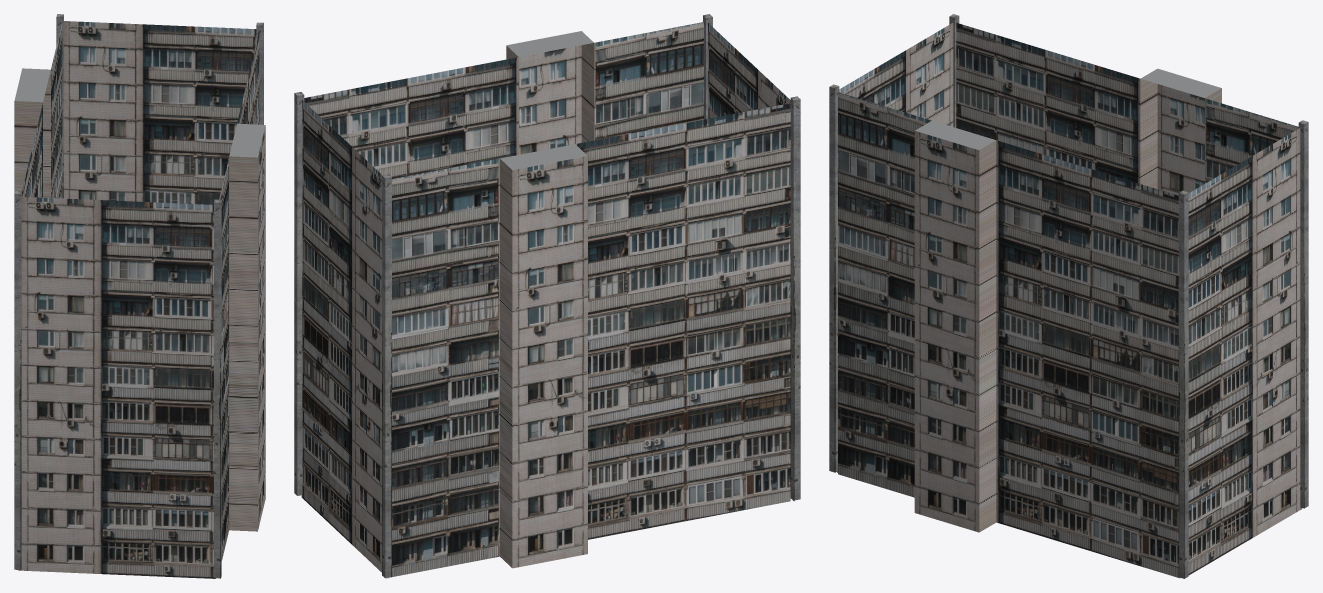
The picture shows the model from 3 angles, left to right: view 1: azimuth 30°, elevation 25°; view 2: azimuth 150°, elevation 25°; view 3: azimuth 270°, elevation 25°; orthographic projection. The views are drawn at different scales.
Visible parts, largest first — view 1: Cube.020; view 2: Cube.020; view 3: Cube.020.
Part boxes in pixels (x1=…): Cube.020: x1=14, y1=14, x2=265, y2=578; Cube.020: x1=294, y1=14, x2=800, y2=578; Cube.020: x1=829, y1=14, x2=1308, y2=578.
Bounding box in the file's own units: 8.14 × 8.13 × 9.12.
Materials: 2 (2 with a texture image).
